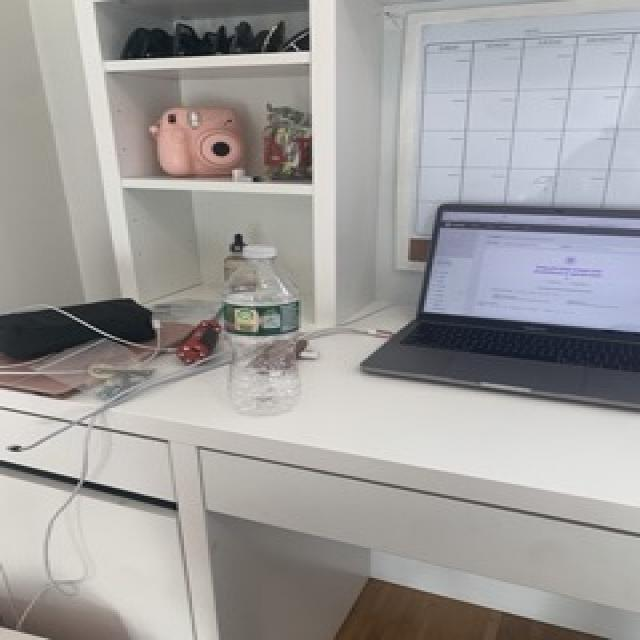water_bottle: (219, 239, 307, 419)
